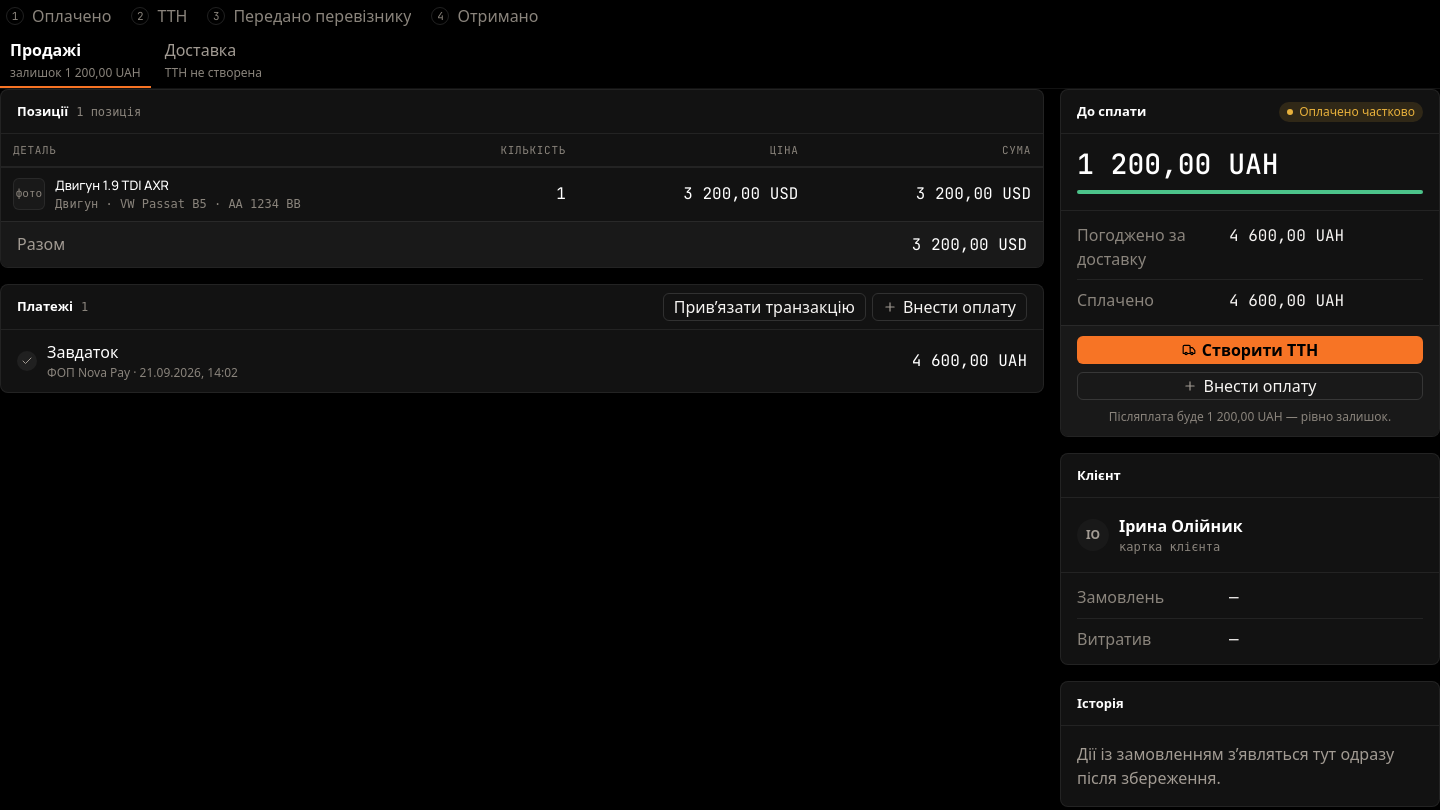
Test: stops only at what the booking drawer cannot fix
This screenshot has width=1440, height=810.
What coordinates should you click on to do the following:
click the tab "Доставка ТТН не створена"
I would click on:
 (213, 60)
Its box is [155,32,272,88].
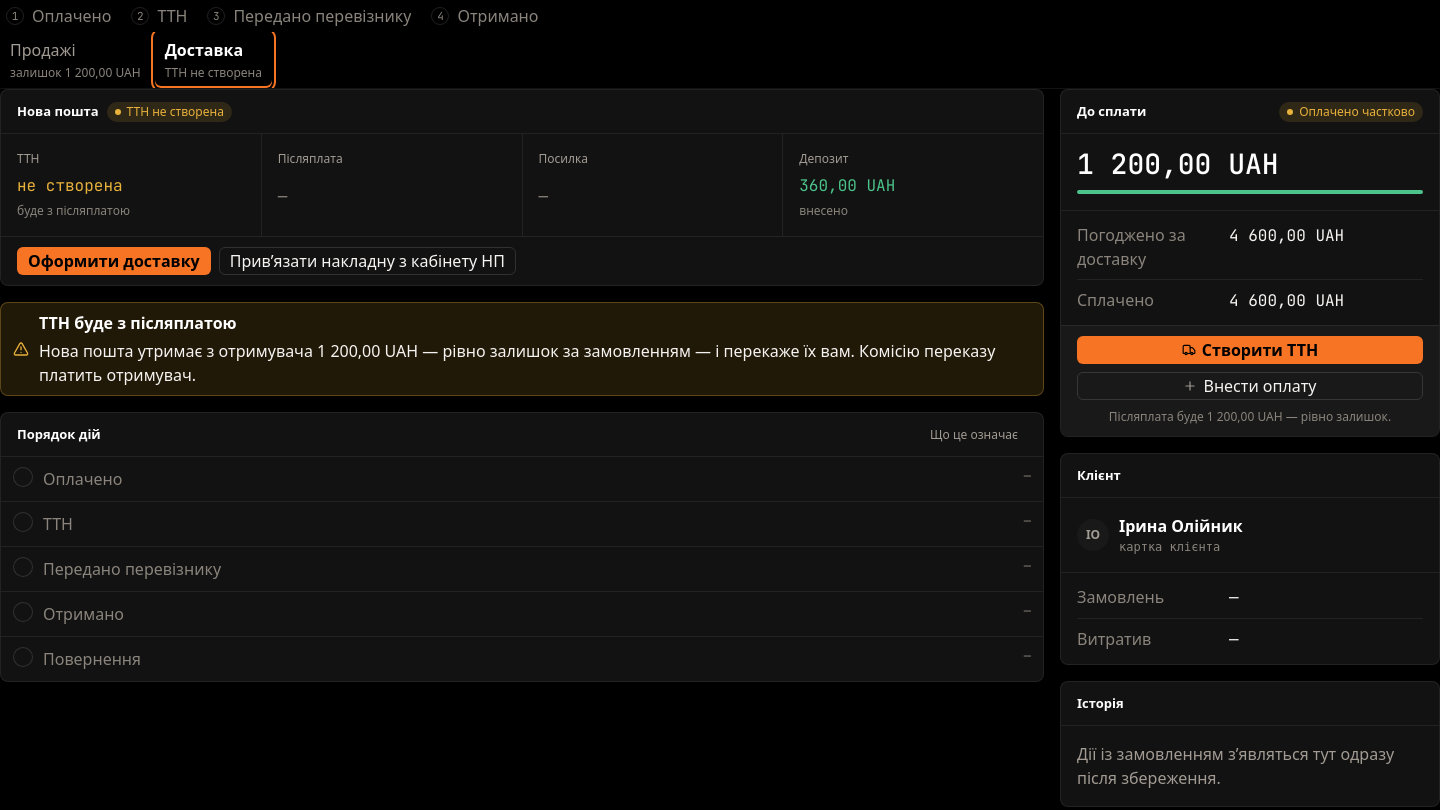
What coordinates should you click on to do the following:
click the button "Оформити доставку"
I would click on:
 (114, 261)
Its box is [17,247,211,275].
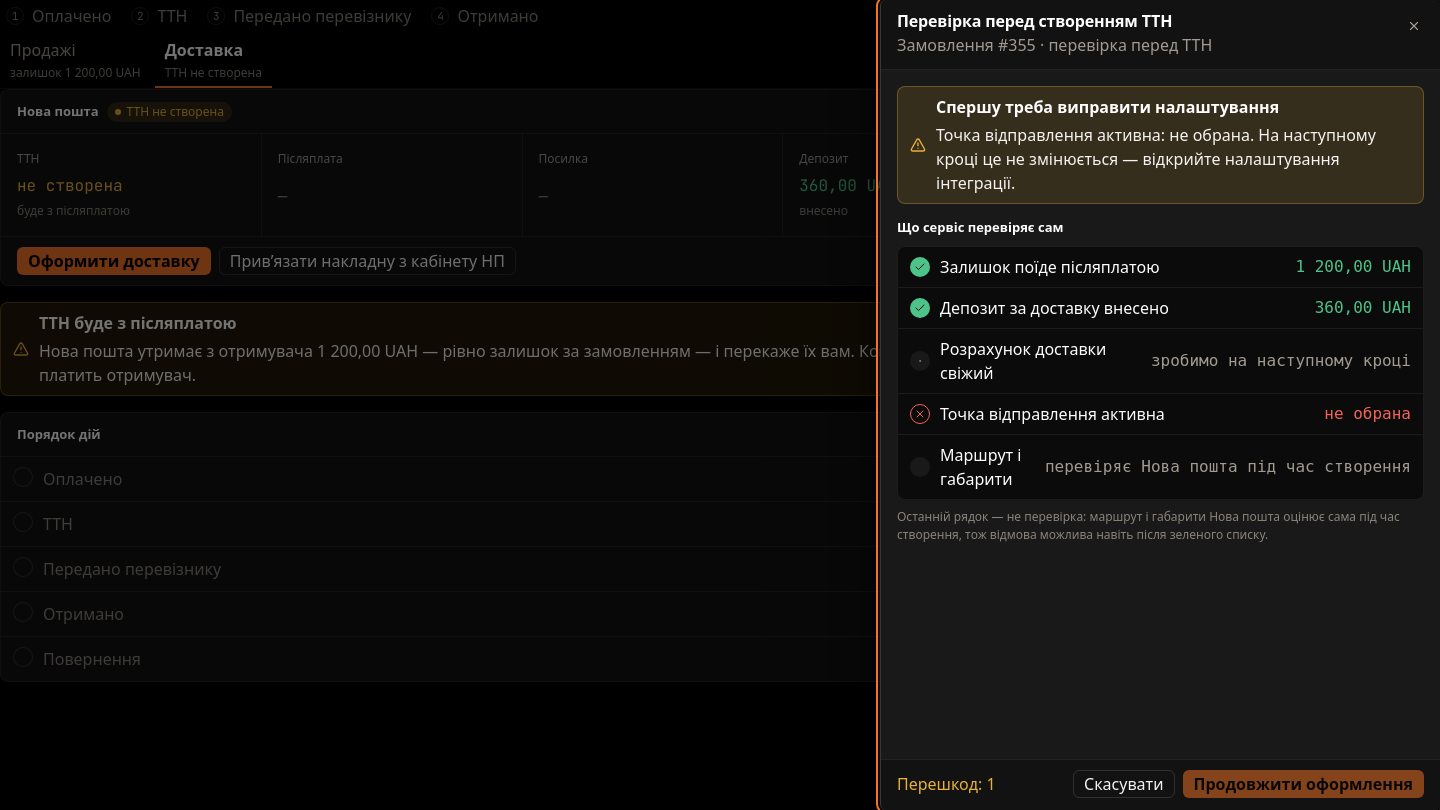
Expected: the dialog "Перевірка перед створенням ТТН" shows "Спершу треба виправити налаштування", [936,96,1279,118]
Expected: the button "Продовжити оформлення" is disabled, [1182,770,1424,798]
